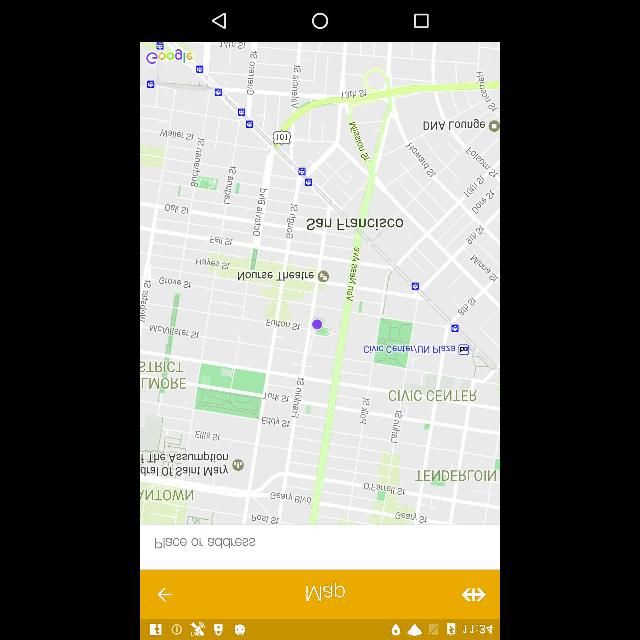icon: (460, 585, 488, 603), (310, 12, 330, 30), (155, 586, 173, 604), (212, 12, 228, 30), (413, 12, 429, 28)
map: (142, 41, 498, 524)
panel: (140, 1, 500, 41)
text: (154, 536, 258, 552), (304, 580, 350, 602)
toolbar: (141, 572, 499, 620)
uppertaskbar: (140, 622, 498, 638)
